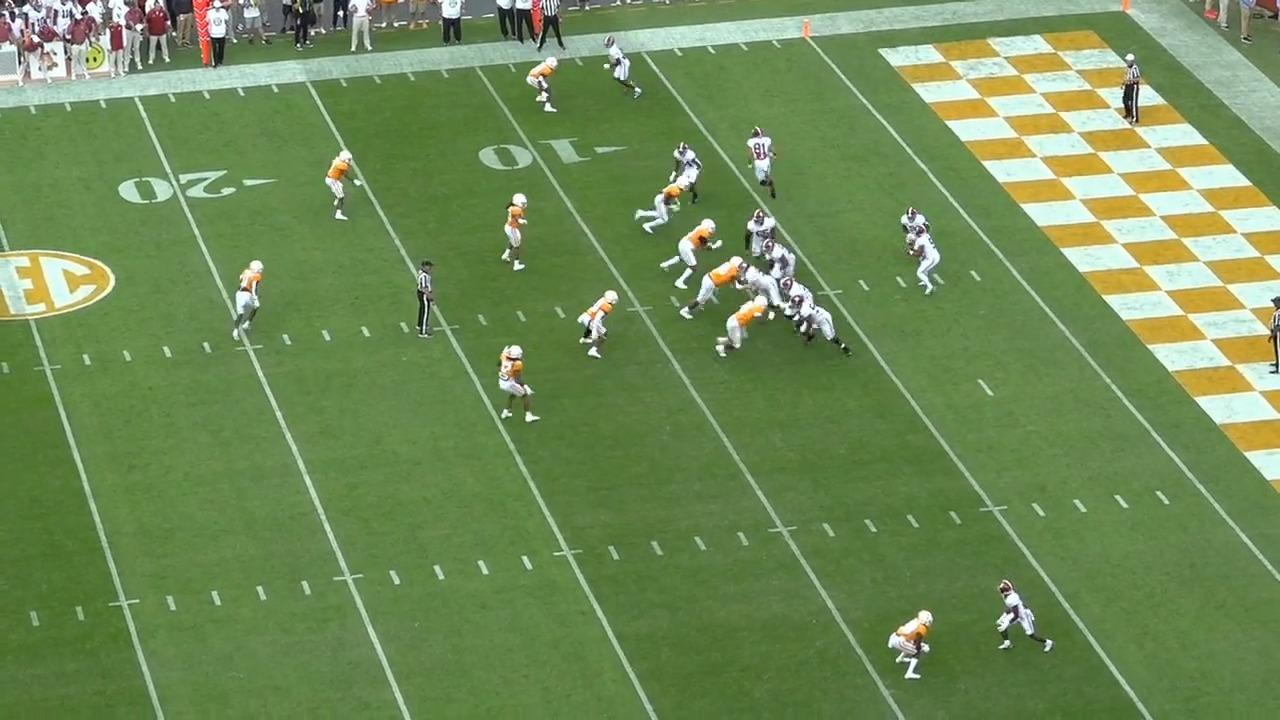player: (992, 578, 1061, 658), (656, 215, 721, 290), (683, 256, 751, 323), (790, 296, 852, 361), (715, 292, 775, 359), (883, 605, 932, 684), (499, 339, 541, 425), (580, 287, 622, 365), (228, 256, 265, 343), (631, 175, 686, 233), (602, 33, 647, 102), (735, 260, 785, 319), (901, 224, 940, 297), (501, 191, 533, 278), (326, 149, 361, 228), (741, 125, 776, 203), (668, 137, 705, 207), (900, 207, 933, 269), (526, 53, 560, 113), (777, 275, 814, 330), (742, 207, 781, 259), (760, 236, 801, 281)
ref: (413, 258, 440, 342), (1117, 51, 1142, 128), (538, 0, 571, 52), (1270, 297, 1280, 377)
